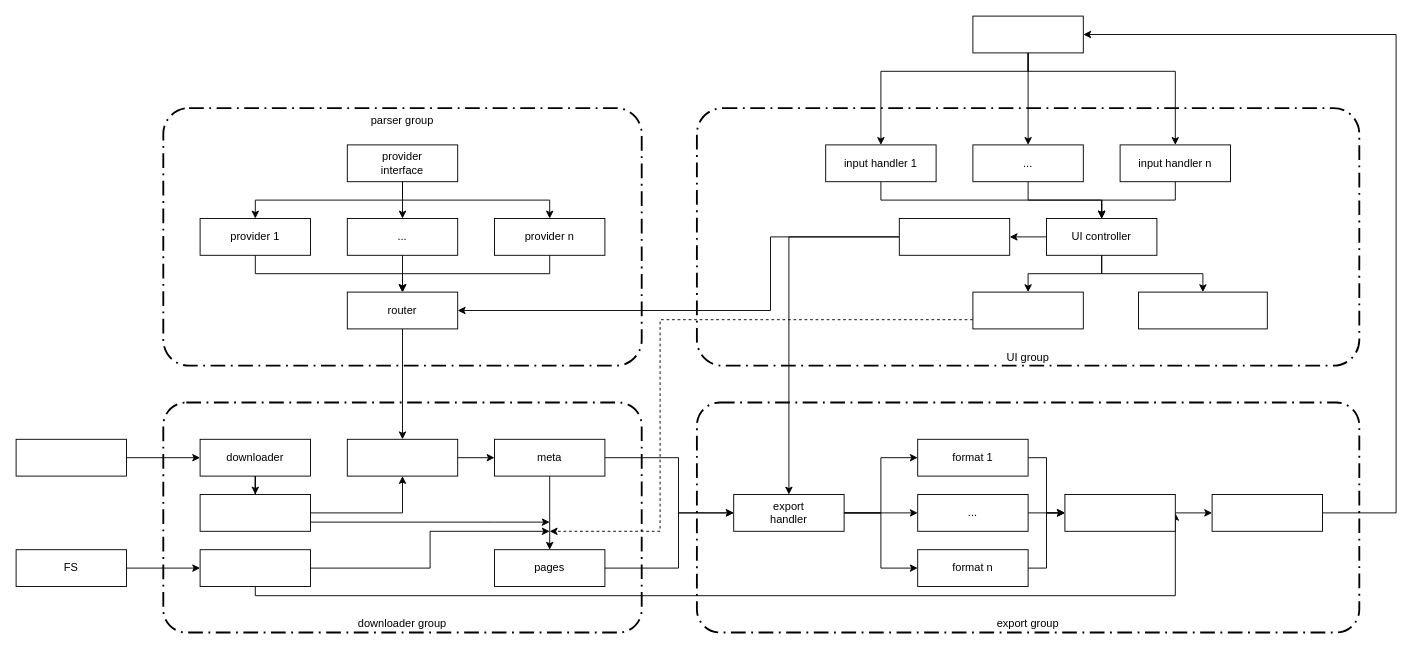
Some shapes in this 1420 by 650 pixel diagram are drawn without their labels. Each missing label, with the centre of its shape:
"API interface" goes at [954,236].
"export" goes at [1266,512].
"FS handler" goes at [254,567].
"internet" goes at [70,457].
"pooling" goes at [1119,512].
"pooling methods" goes at [254,512].
"raw data" goes at [402,457].
"session, log, failure recovery setup" goes at [1202,310].
"SHELF filers" goes at [1027,310].
"user" goes at [1027,34].
